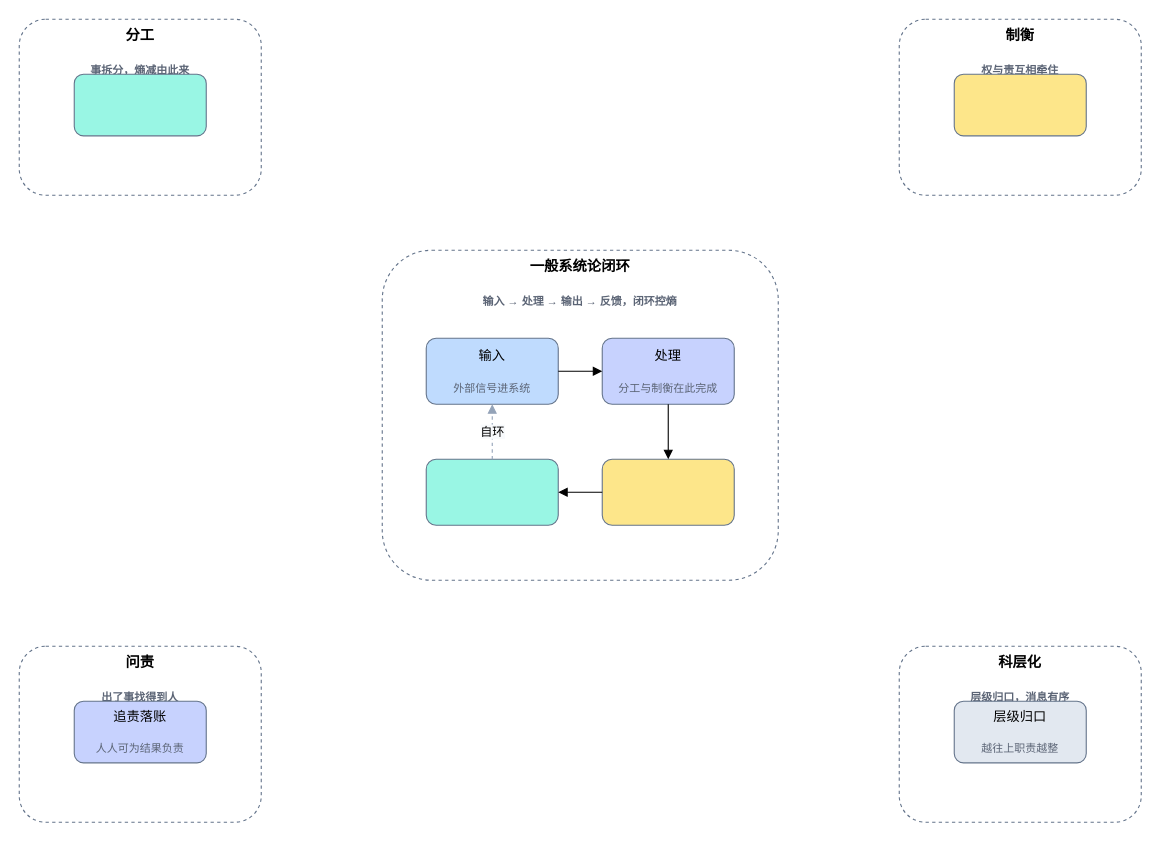
This 1161x842 diagram has some shape labels left out. Each missing label, with the centre of its shape:
"切分职责 一人一段可指认" goes at [139,104].
"反馈 结果回流再校验" goes at [667,491].
"检查制衡 报告≠修复≠验证" goes at [1019,104].
"输出 判定的结果出圈" goes at [491,491].
